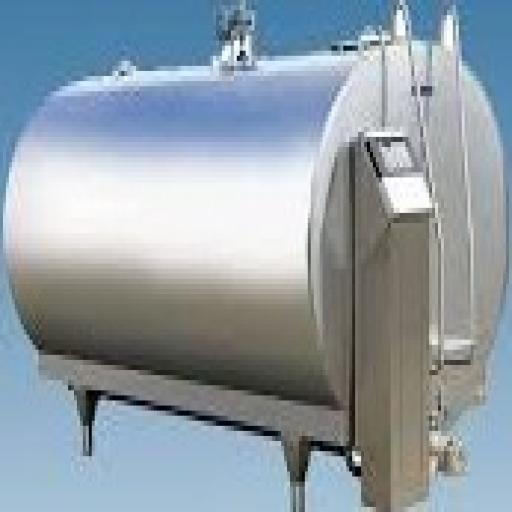silo: (3, 0, 509, 507)
